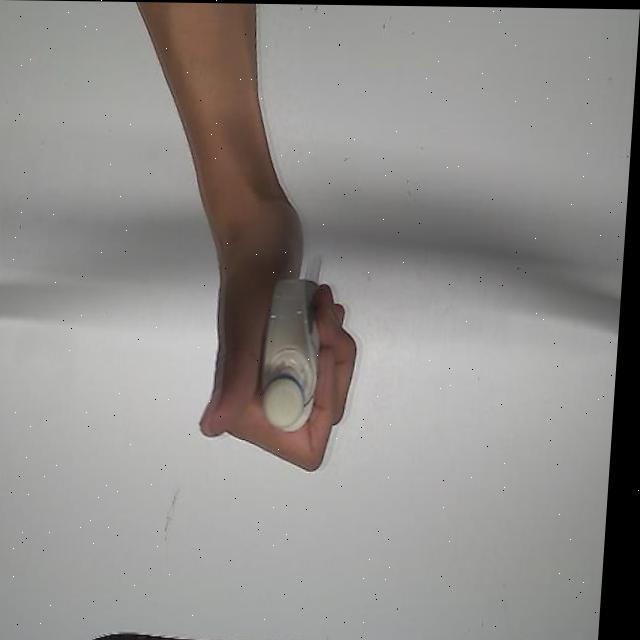Single Channel Pipettor: (263, 234, 333, 434)
